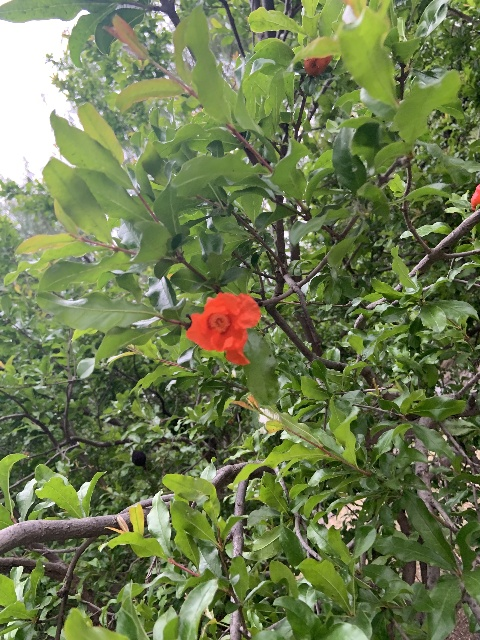bud: (303, 54, 331, 76)
flower: (185, 291, 261, 366)
